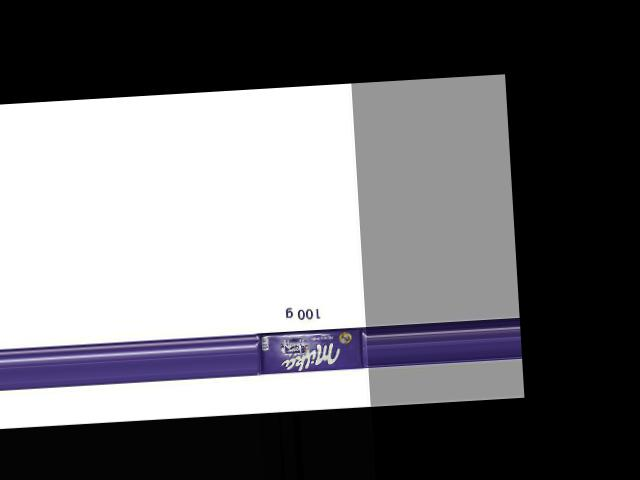chocolate: (253, 319, 365, 375)
